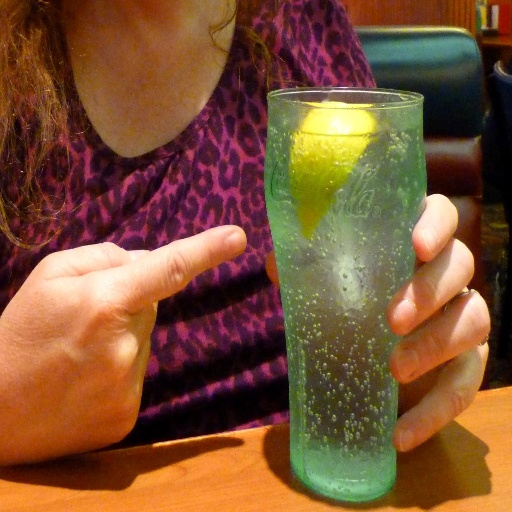hand: (265, 192, 492, 453), (0, 224, 240, 462)
